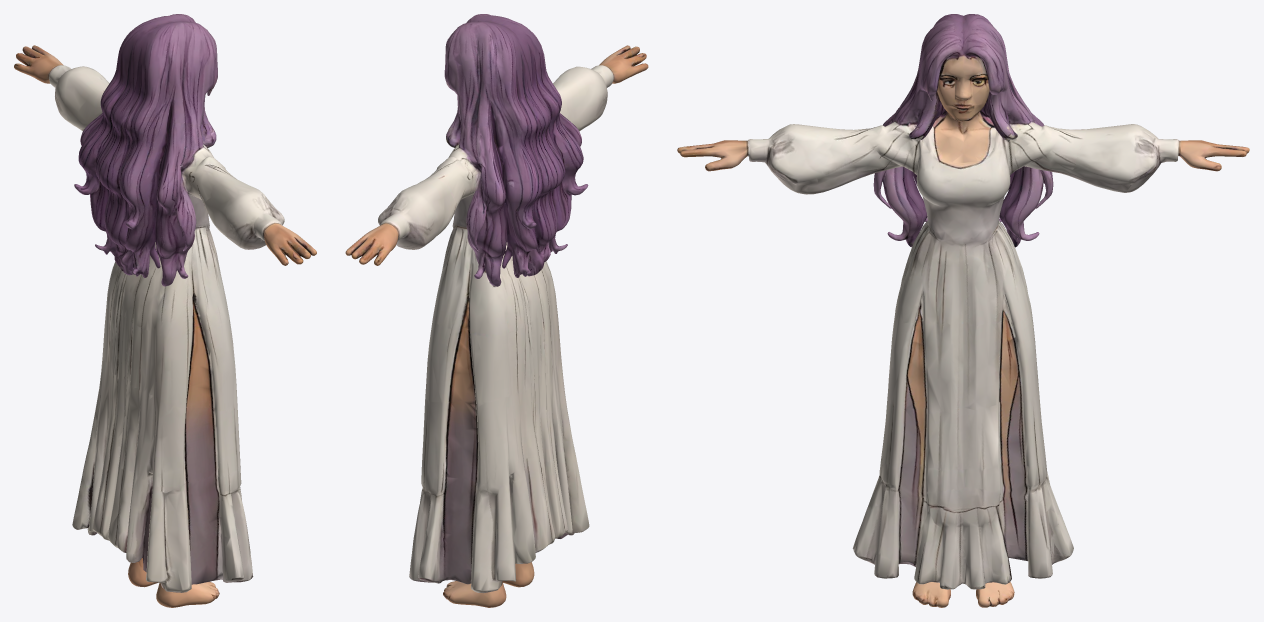
Rendered from female-decimated.glb.
3 renders of one model, left to right at view 1: azimuth 30°, elevation 25°; view 2: azimuth 150°, elevation 25°; view 3: azimuth 270°, elevation 25°, orthographic.
Visible parts, largest first — view 1: tripo_node_bc823922-a818-47de-bd45-c75552e11e0f; view 2: tripo_node_bc823922-a818-47de-bd45-c75552e11e0f; view 3: tripo_node_bc823922-a818-47de-bd45-c75552e11e0f.
Boxes of the visible parts, <box> form: tripo_node_bc823922-a818-47de-bd45-c75552e11e0f: <box>14,14,316,607</box>; tripo_node_bc823922-a818-47de-bd45-c75552e11e0f: <box>345,14,648,607</box>; tripo_node_bc823922-a818-47de-bd45-c75552e11e0f: <box>677,14,1249,607</box>.
Bounding box in the file's own units: 0.218 × 0.9994 × 0.9033.
1 material, 1 textured.
